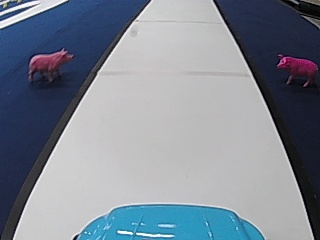pig: (25, 45, 74, 85), (274, 51, 318, 86)
